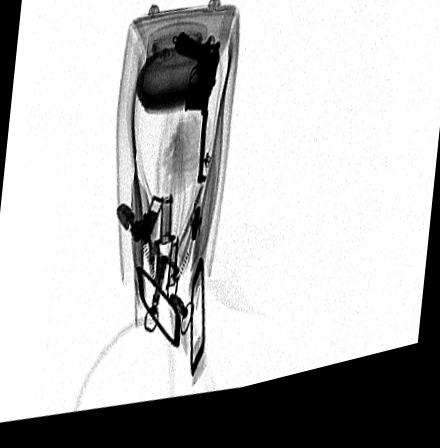Gun: (174, 35, 223, 195)
